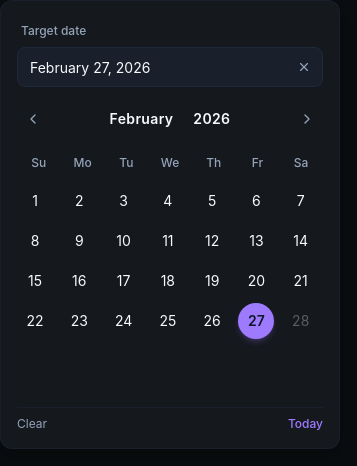
Test: Calendar Component › Future Logic › disables future months in month view
The image size is (357, 466).
# Go to months view
Click the button "February". click: {"x": 142, "y": 119}
box: [102, 107, 181, 131]
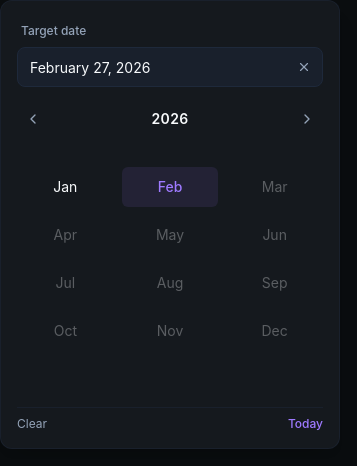
Expected: the button "Mar" is disabled, [226, 167, 323, 207]
